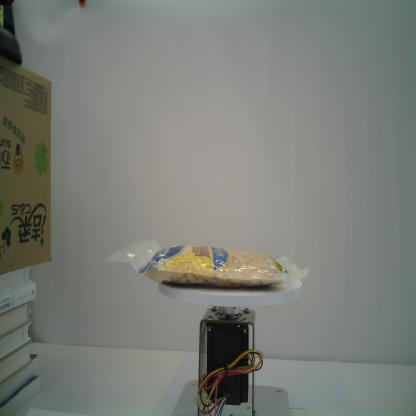Dried Fruit: (101, 238, 311, 289)
